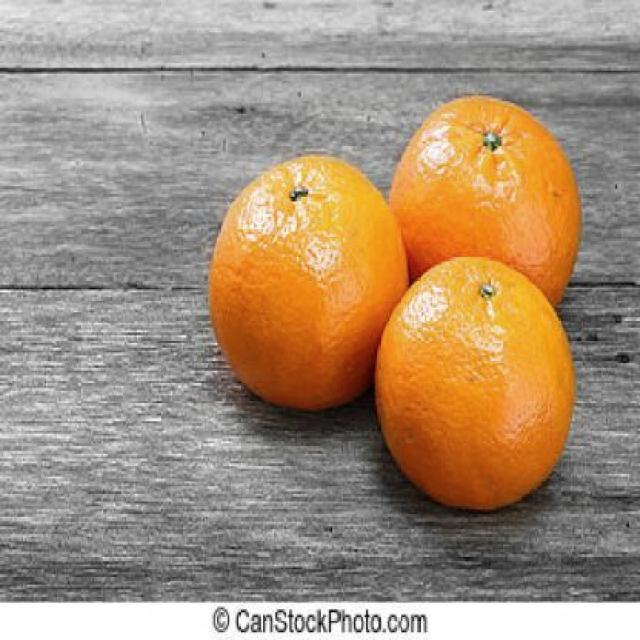Jeruk Sudah Matang: (376, 251, 575, 524), (212, 156, 414, 424), (385, 93, 578, 350)
